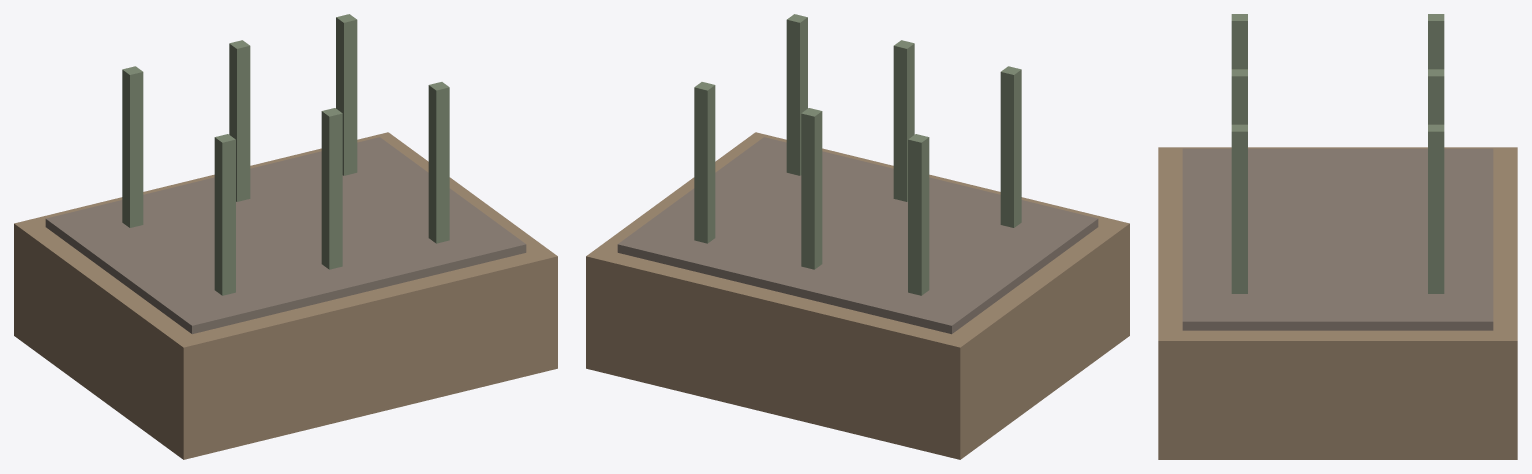
File: iz2_food_compost_tumbler.glb
3 renders of one model, left to right at view 1: azimuth 30°, elevation 25°; view 2: azimuth 150°, elevation 25°; view 3: azimuth 270°, elevation 25°, orthographic. The views are drawn at different scales.
Parts seen in each view (by area): view 1: body; view 2: body; view 3: body.
Boxes of the visible parts, box(x1,y1,x2,y2) form: body: box(14, 14, 557, 459); body: box(586, 14, 1129, 459); body: box(1158, 14, 1517, 459).
Bounding box in the file's own units: 1.4 × 0.9774 × 1.1.
